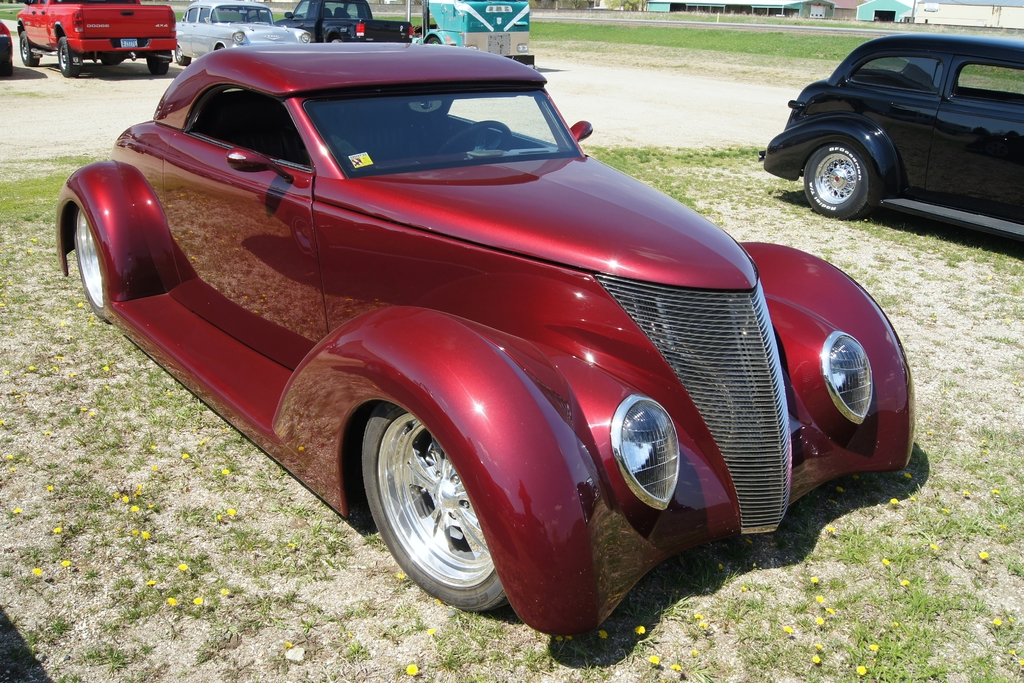car: (20, 31, 932, 635), (11, 1, 181, 89), (270, 1, 422, 50)
